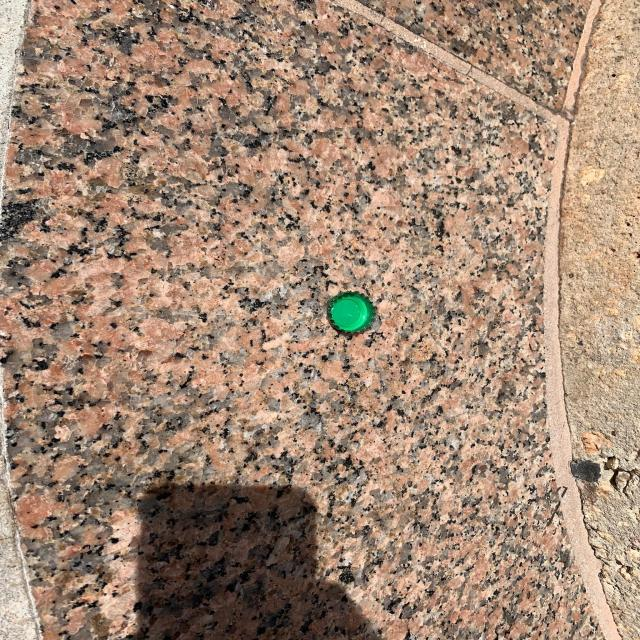litter: (325, 291, 377, 334)
